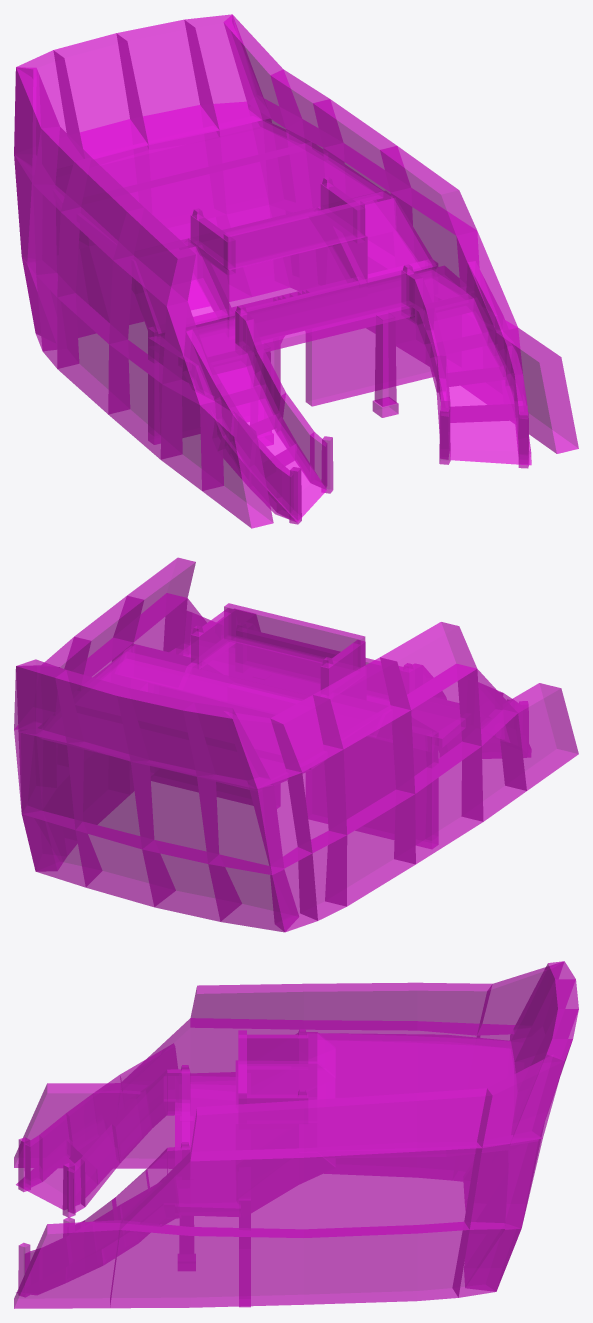
Rendered from SM_Veh_Ship_L_Back_02_Collision.fbx.
The picture shows the model from 3 angles, top to bottom: view 1: azimuth 30°, elevation 25°; view 2: azimuth 150°, elevation 25°; view 3: azimuth 270°, elevation 25°; orthographic projection. The views are drawn at different scales.
Visible parts, largest first — view 1: SM_Veh_Ship_L_Back_02_Collision; view 2: SM_Veh_Ship_L_Back_02_Collision; view 3: SM_Veh_Ship_L_Back_02_Collision.
Part boxes in pixels (x1,y1,x2,y2): SM_Veh_Ship_L_Back_02_Collision: (14,14,578,528); SM_Veh_Ship_L_Back_02_Collision: (14,557,578,932); SM_Veh_Ship_L_Back_02_Collision: (14,961,578,1308).
Size of the model in its own units: 1045 by 752 by 1652.
